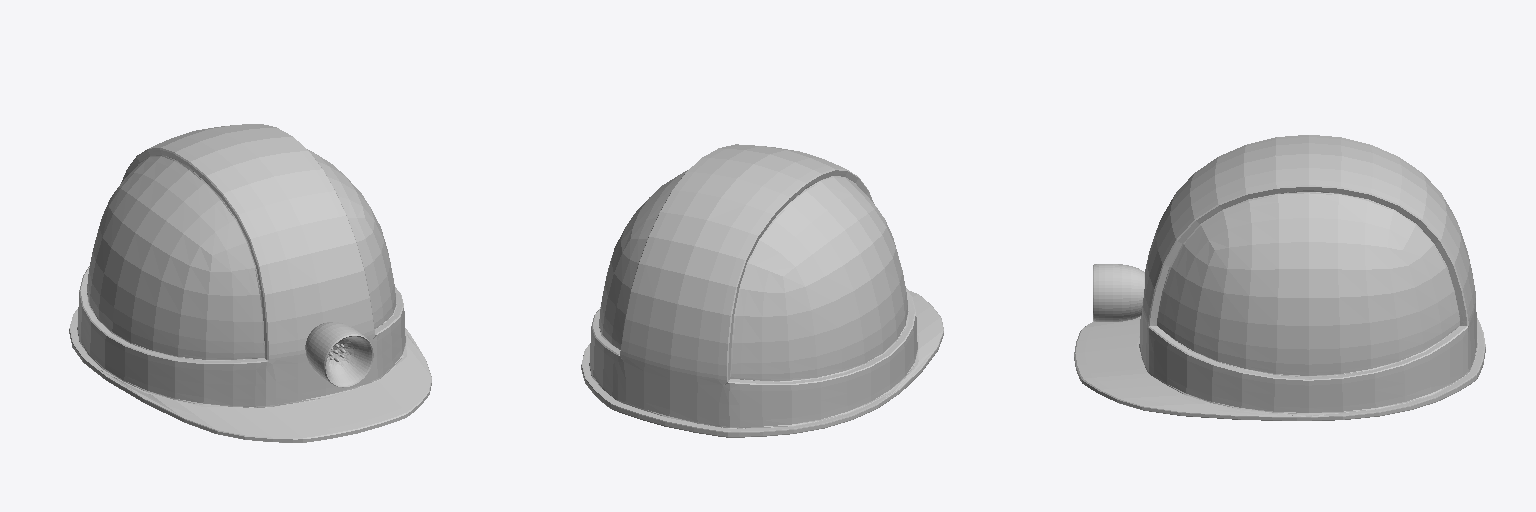
Rendered from Hard hat1.obj.
3 renders of one model, left to right at view 1: azimuth 30°, elevation 25°; view 2: azimuth 150°, elevation 25°; view 3: azimuth 270°, elevation 25°, orthographic.
Visible parts, largest first — view 1: Hard_Hat_1_Cube.003; view 2: Hard_Hat_1_Cube.003; view 3: Hard_Hat_1_Cube.003.
Boxes of the visible parts, x1=… form: Hard_Hat_1_Cube.003: x1=69, y1=124, x2=431, y2=442; Hard_Hat_1_Cube.003: x1=581, y1=144, x2=943, y2=437; Hard_Hat_1_Cube.003: x1=1074, y1=135, x2=1485, y2=420.
Bounding box in the file's own units: 1.79 × 1.24 × 2.27.